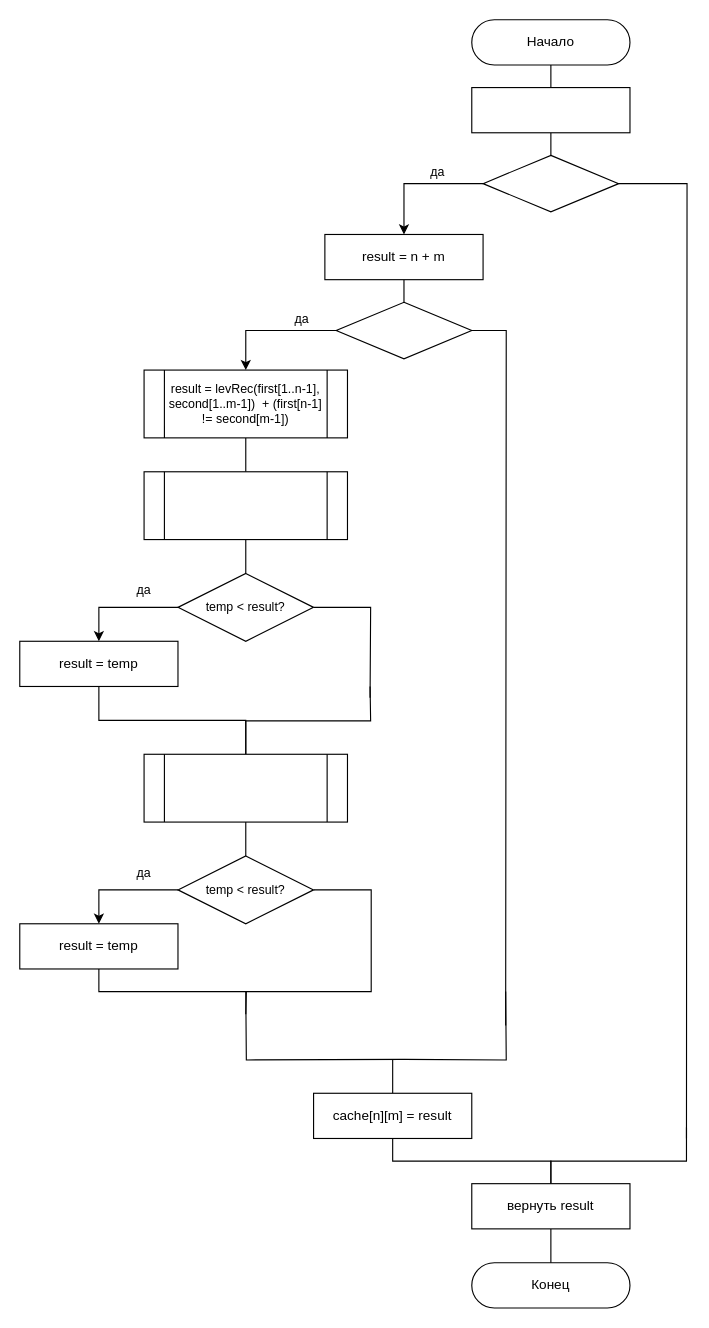
The diagram is 709 pixels wide and 1328 high, and some of its shapes have lost their labels. Each missing label, with the centre of its shape:
"n > 0 и m > 0?" belongs at (x=403, y=330).
"result = -1?" belongs at (x=550, y=183).
"result = cache[n][m]" belongs at (x=550, y=109).
"temp = levRec(first[1..n-1], second[1..m]) + 1" belongs at (x=245, y=505).
"temp = levRec(first[1..n], second[1..m-1]) + 1" belongs at (x=245, y=787).
